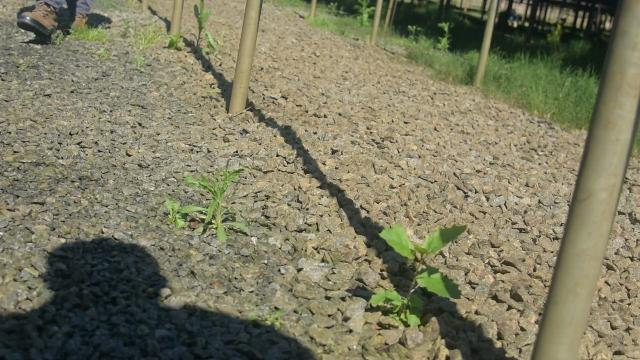MalezaMontesDelPlata: (358, 220, 475, 331), (158, 155, 254, 245), (487, 51, 598, 128), (162, 0, 233, 55), (407, 49, 483, 83), (124, 20, 162, 54), (432, 20, 459, 55), (352, 0, 377, 36), (65, 22, 107, 42)
